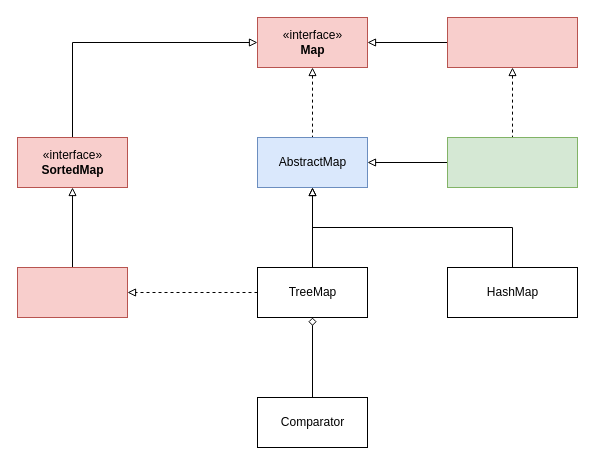
This 595x465 diagram has some shape labels left out. The shapes that lost their labels are listed below. From the top down, each one's centre as x and y in pixels, then its label:
At point (512, 42): "«interface» ConcurrentMap".
At point (512, 162): "ConcurrentHashMap".
At point (72, 292): "«interface» NavigableMap".
